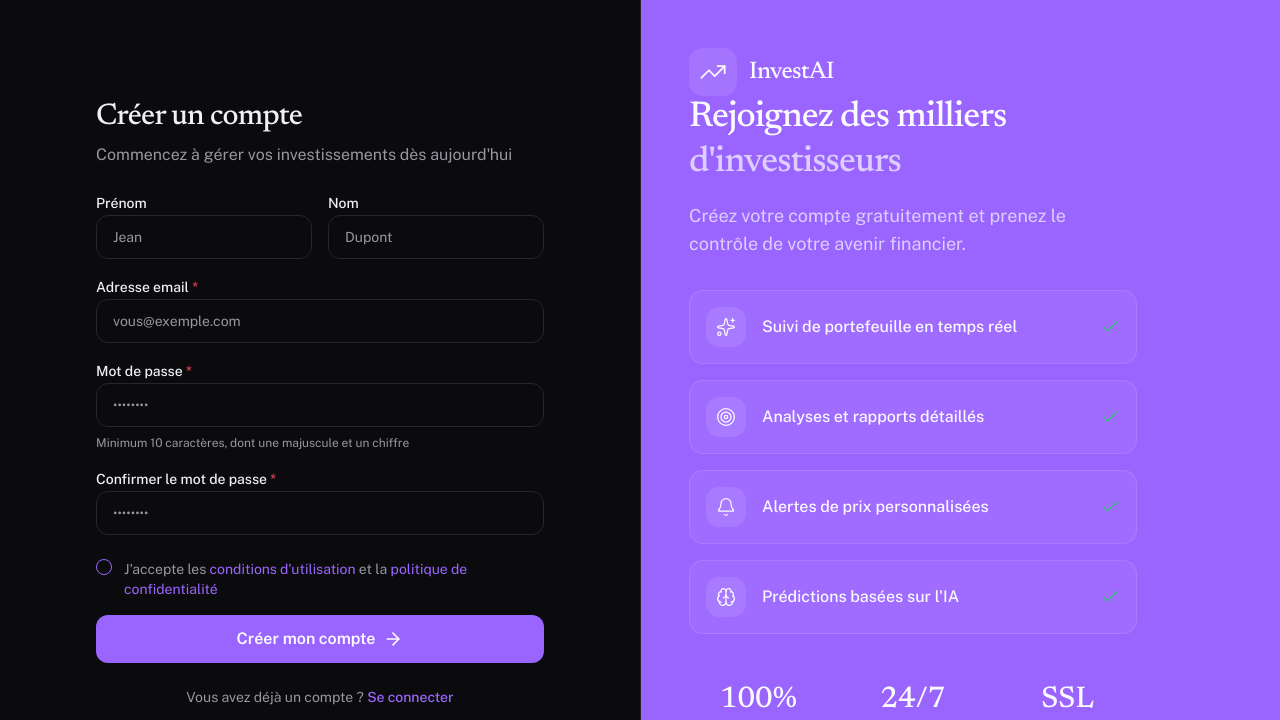
Test: la réponse du serveur › affiche la raison donnée par le serveur en cas de refus
This screenshot has width=1280, height=720.
In the field labelled "Adresse email *": (320, 321) [96,299,544,343], type "nouveau@test.com"
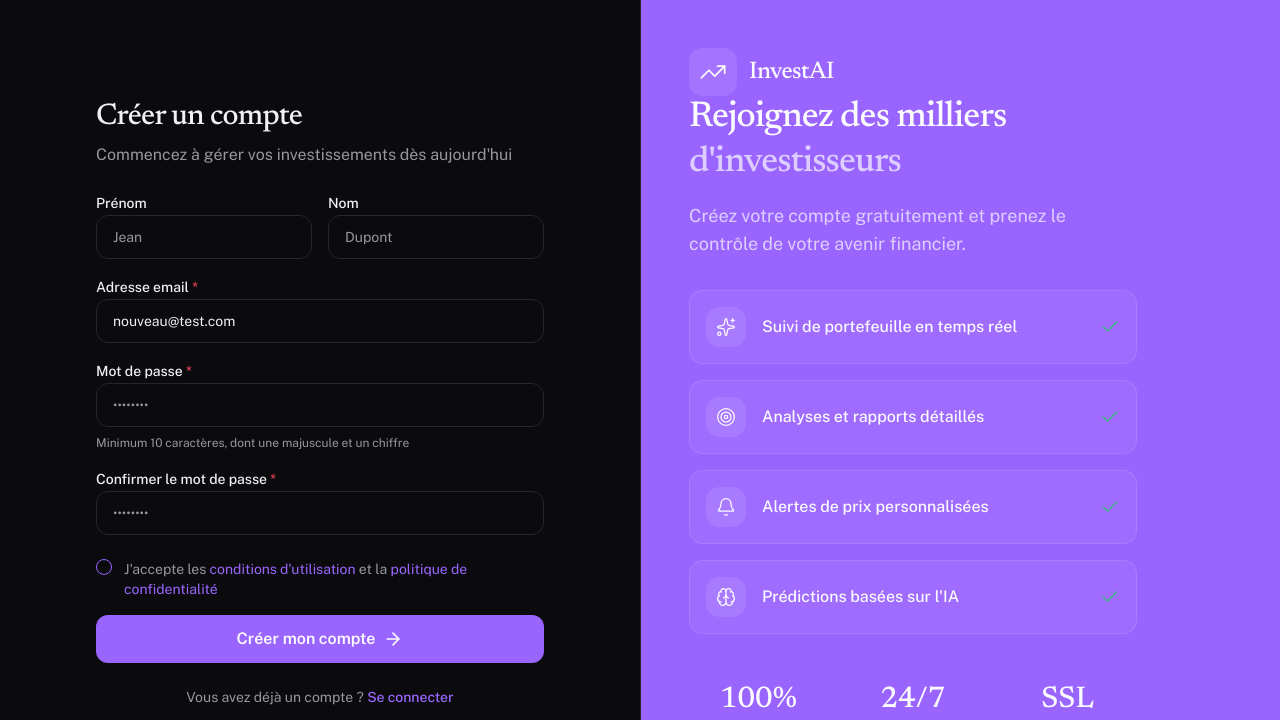
In the password field labelled "Mot de passe *": (320, 405) [96,383,544,427], type "MotDePasseValide1"
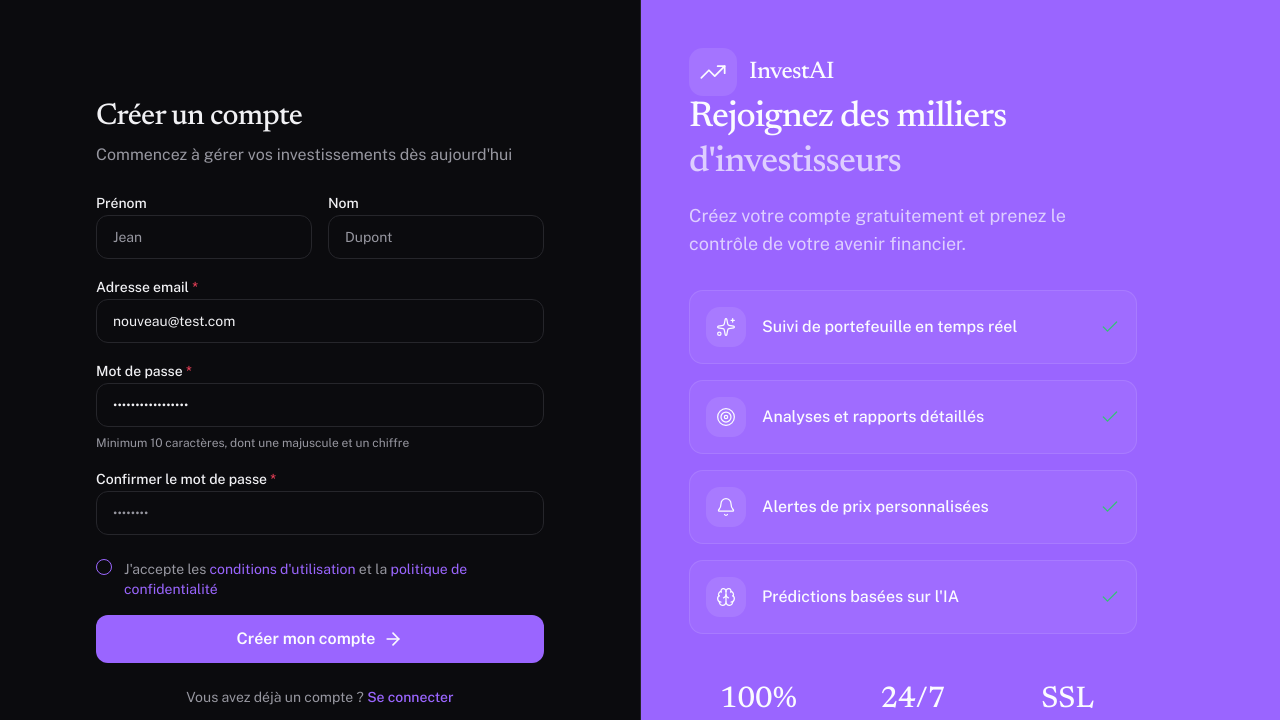
In the password field labelled "Confirmer le mot de passe *": (320, 513) [96,491,544,535], type "MotDePasseValide1"
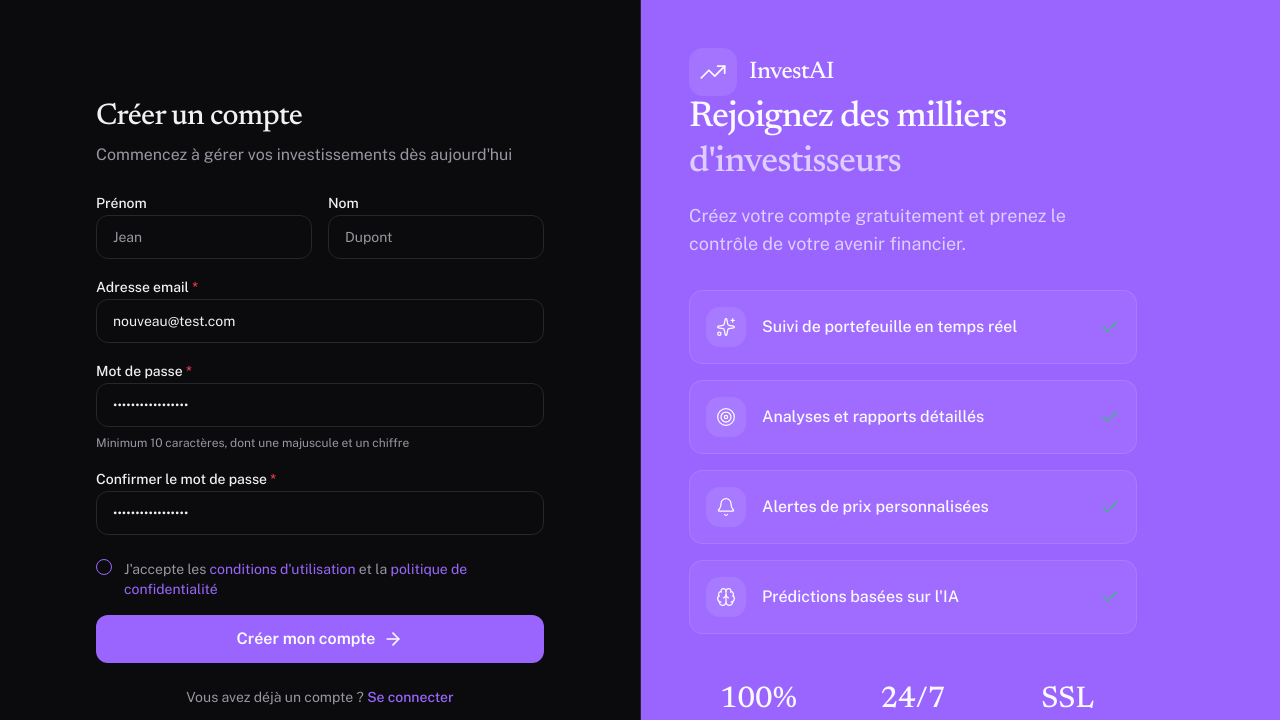
Click the checkbox: (104, 567) [96,559,112,575]
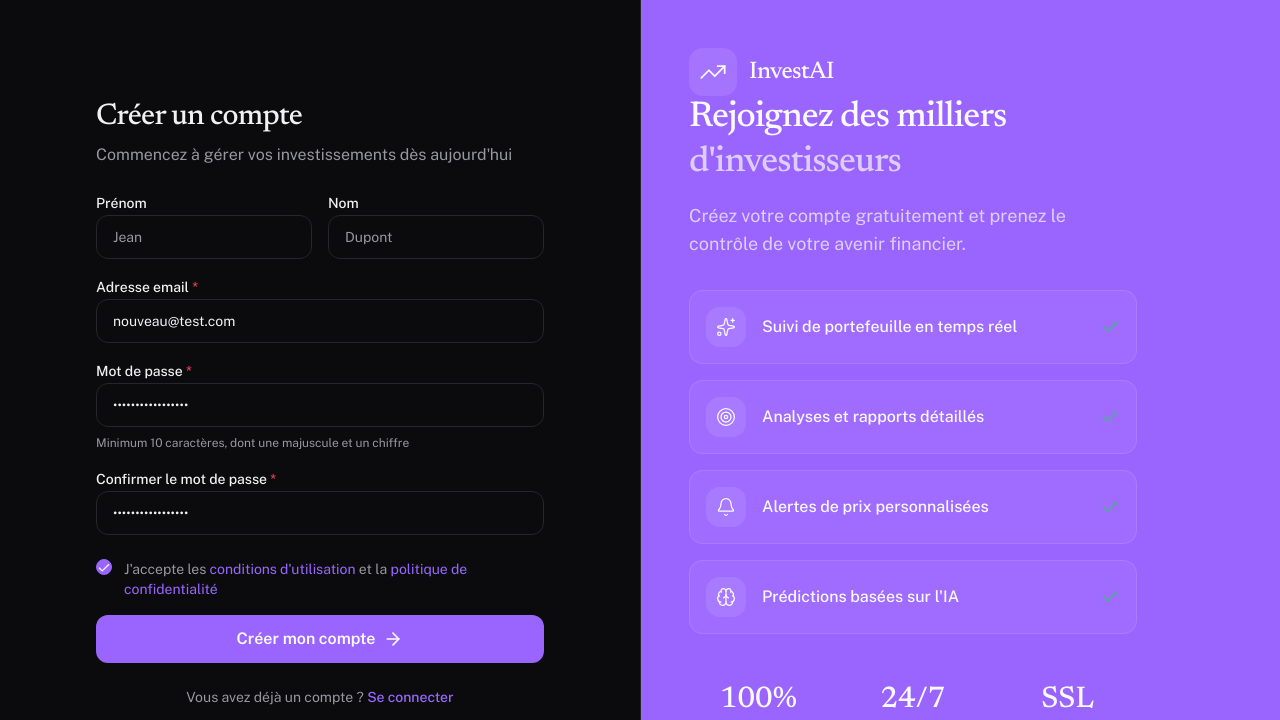
Submit the form, box [96,191,544,663]
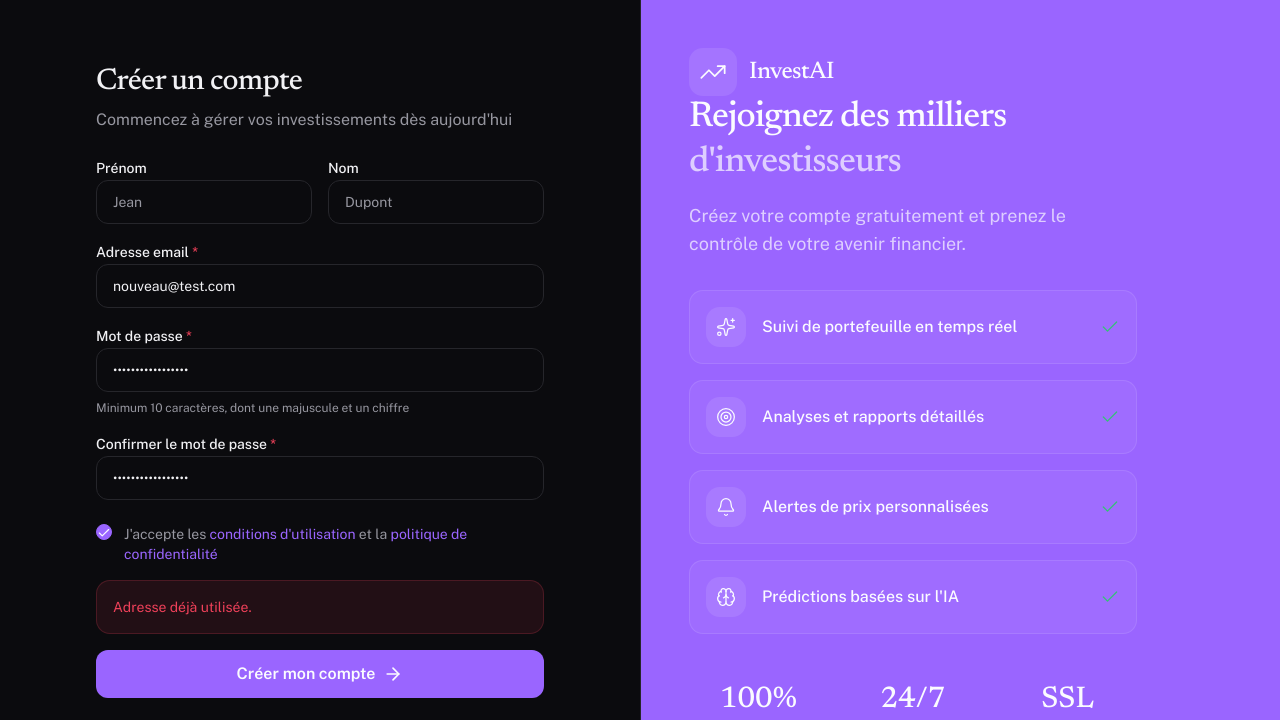
Result: the text "Adresse déjà utilisée." is shown at [96,580,544,634]
